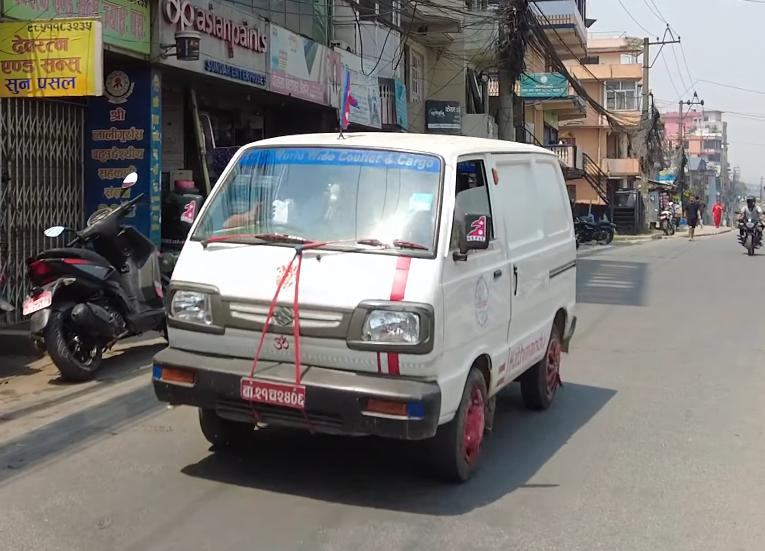scooter: (14, 172, 175, 383)
van: (127, 116, 587, 482)
